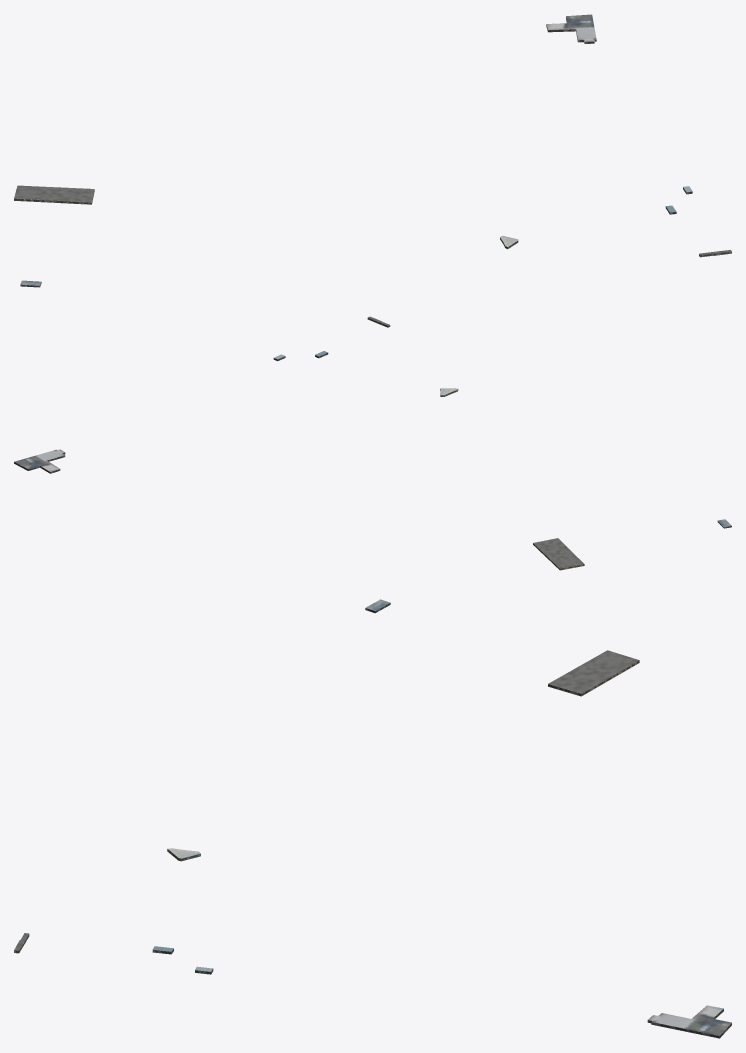
3 views of the same model, one above another, from view 1: azimuth 30°, elevation 25°; view 2: azimuth 150°, elevation 25°; view 3: azimuth 270°, elevation 25° (orthographic). The views are drawn at different scales.
Parts seen in each view (by area): view 1: SlateRoof, SlateRoof surveyed; view 2: SlateRoof, SlateRoof surveyed; view 3: SlateRoof, SlateRoof surveyed.
Part boxes in pixels (x1,y1,x2,y2): SlateRoof: (14,15,731,253); SlateRoof surveyed: (546,14,692,212); SlateRoof: (19,316,583,568); SlateRoof surveyed: (14,351,327,471); SlateRoof: (14,650,730,1035); SlateRoof surveyed: (153,946,731,1035).
Size of the model in its own units: 1722 by 5.23 by 1195.
8 materials, 8 textured.
